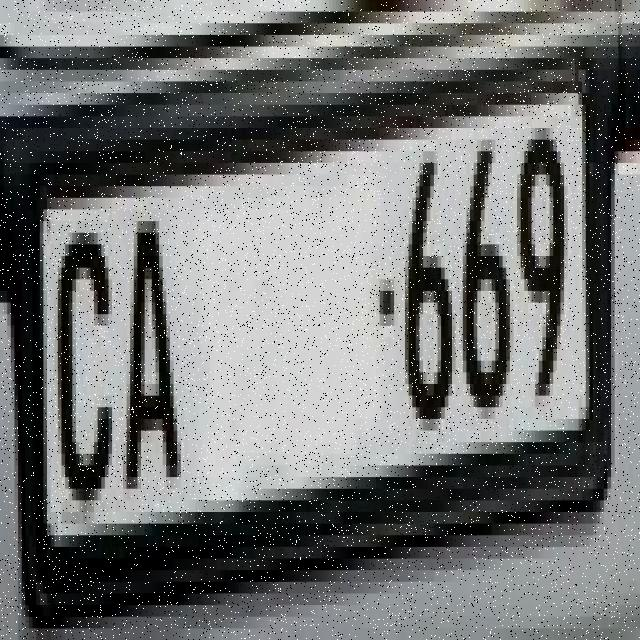licenseplate: (16, 47, 618, 623)
